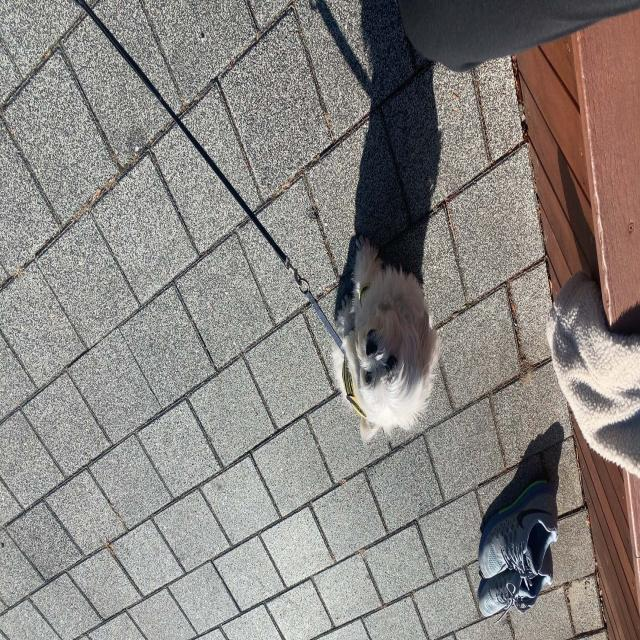Dog: (199, 196, 307, 406)
